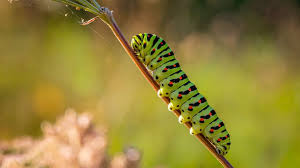Caterpillar: (130, 33, 232, 157)
